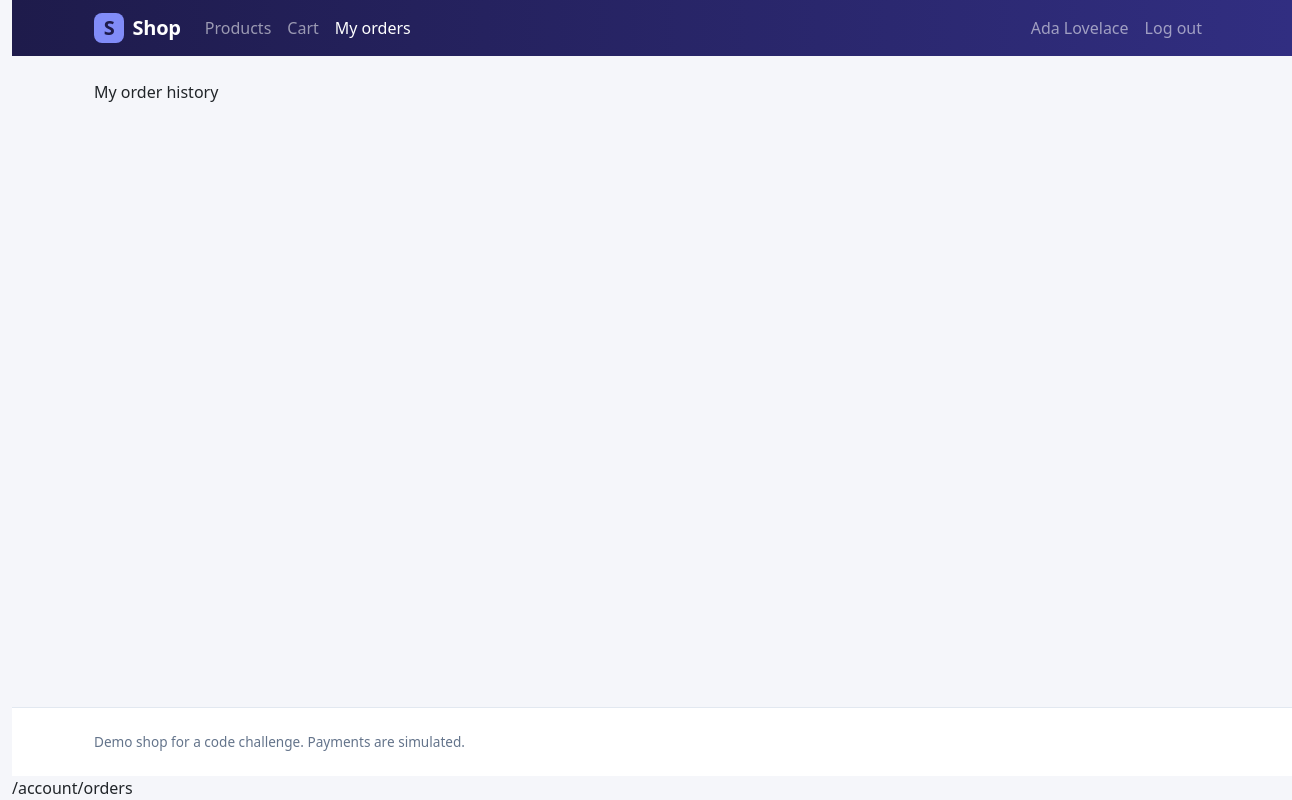
Test: Layout › signs out and returns to the shop
Click the button "Log out" at (1173, 28), box 1137,8 -> 1210,48
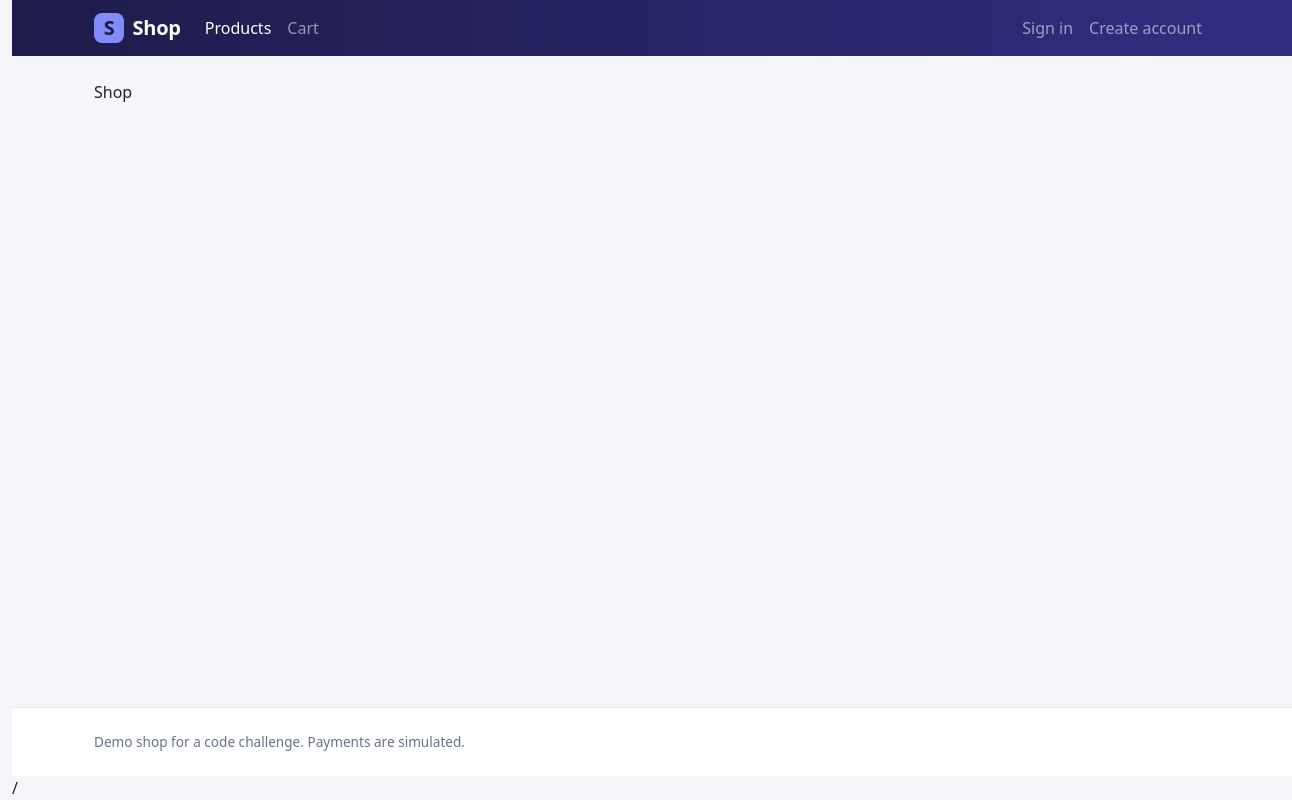
Check: the link "Sign in" is shown, box 1022,17 -> 1073,39
